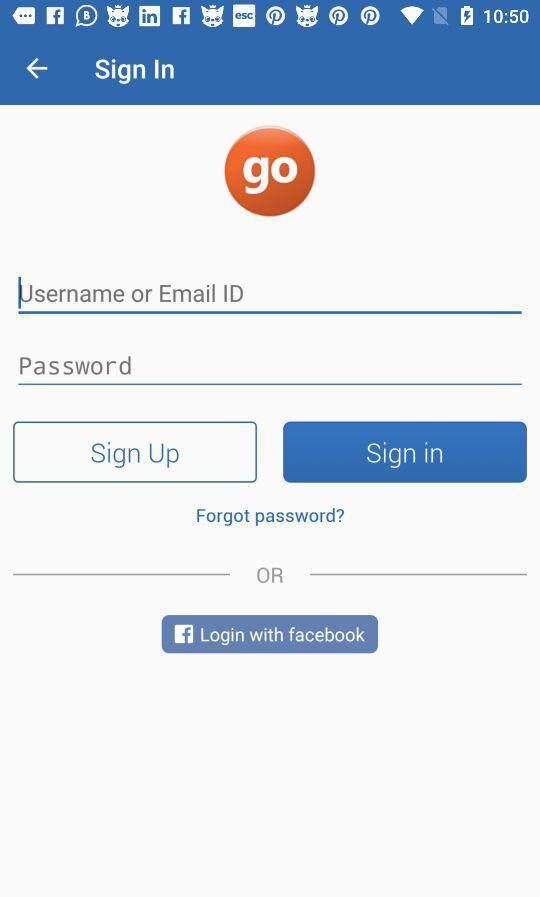EditText: (18, 277, 523, 315), (18, 356, 522, 386)
Icon: (26, 58, 49, 81)
Image: (225, 125, 316, 217)
Text: (21, 284, 245, 304), (197, 507, 345, 528), (95, 58, 176, 86), (20, 357, 133, 377), (257, 567, 285, 585)
TextButton: (283, 421, 528, 484), (13, 421, 258, 484), (162, 615, 379, 654)
Toolbar: (1, 33, 540, 106)
UpperTaskBar: (1, 1, 540, 33)
